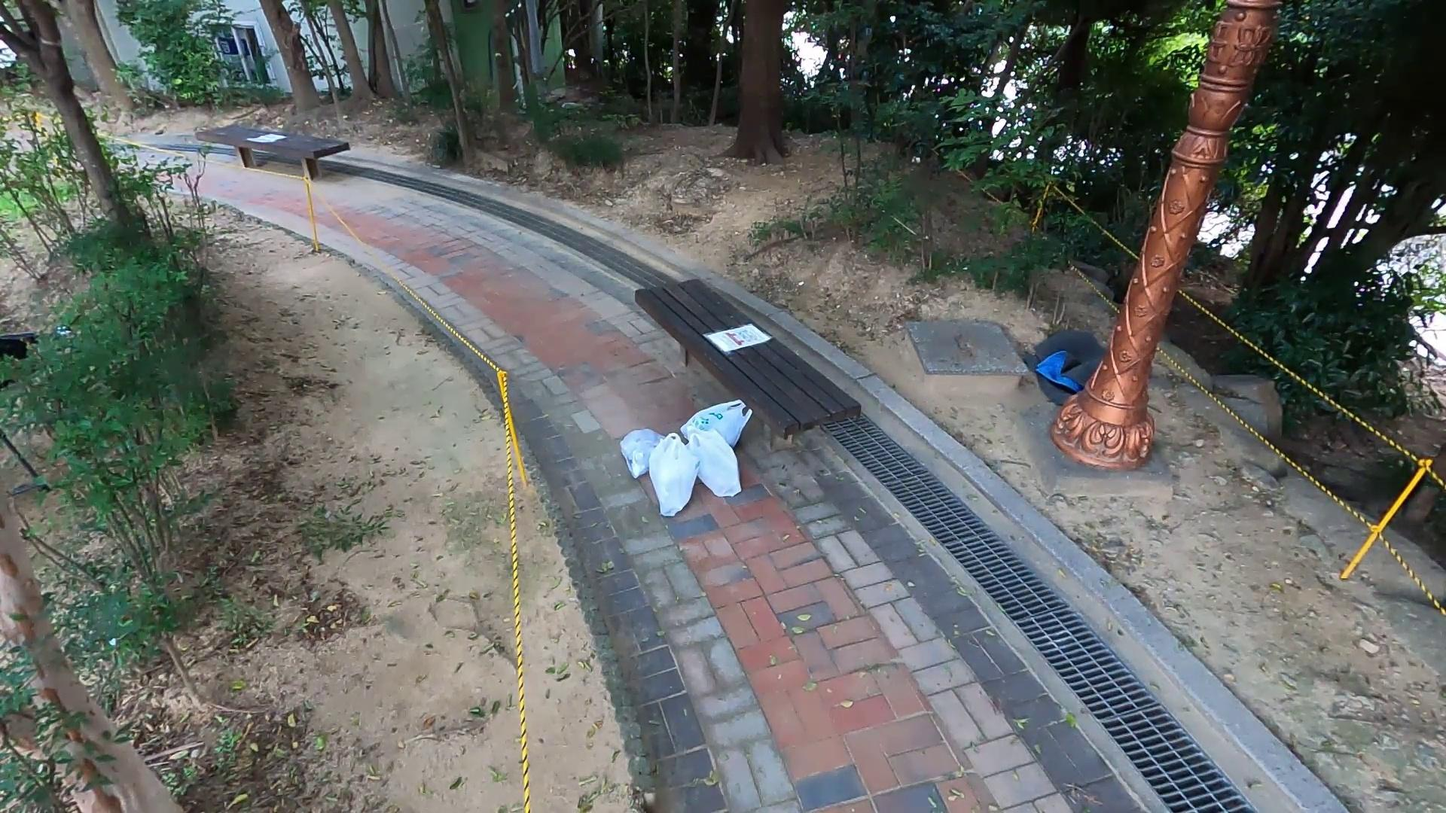trash: (1026, 324, 1111, 397), (683, 427, 753, 505), (642, 425, 698, 517), (676, 393, 757, 451), (616, 425, 669, 486)
